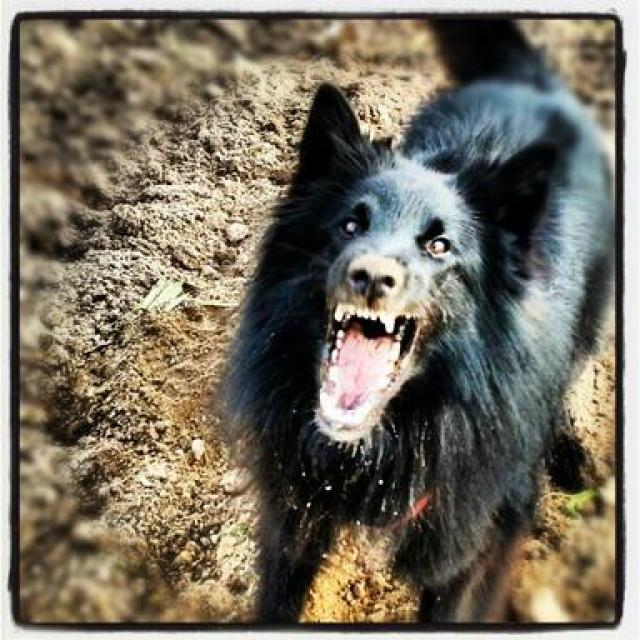angry: (240, 1, 640, 640)
